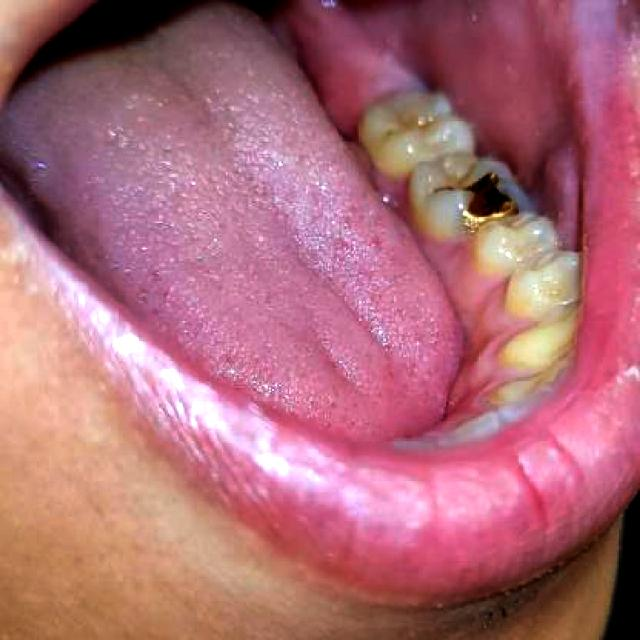Plaque: (423, 157, 485, 196)
